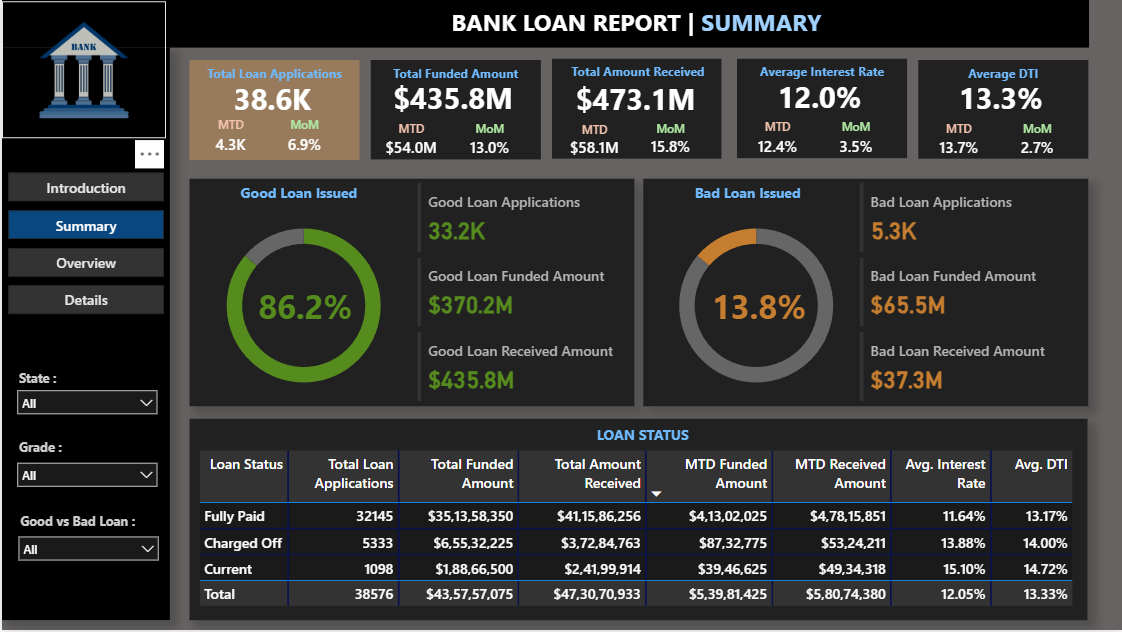

The dashboard page shown, as its layout file describes it:
{"tool":"powerbi","page":{"name":"Summary","canvas":[1280,720],"ordinal":1},"visuals":[{"type":"shape","box":[629.2,66.4,193.8,114.2],"z":0,"group":"g3"},{"type":"shape","box":[839.7,67.5,194.5,114],"z":0,"group":"g4"},{"type":"shape","box":[214.3,68.6,194.3,114.3],"z":0,"group":"g1"},{"type":"shape","box":[421.4,68.6,194.5,114],"z":0,"group":"g2"},{"type":"shape","box":[1047.1,68.6,194.5,113.1],"z":0,"group":"g5"},{"type":"shape","box":[214.3,204.3,508.6,260],"z":0},{"type":"card","fields":{"Values":["table_measures.avg_interest_rate"]},"box":[851.5,82.1,165.9,58.4],"z":1000,"group":"g4"},{"type":"card","fields":{"Values":["table_measures.avg_DTI"]},"box":[1058.9,83.1,165.9,57.9],"z":1000,"group":"g5"},{"type":"card","fields":{"Values":["table_measures.total_loan_appl"]},"box":[247.2,83.2,124.3,61.3],"z":1000,"group":"g1"},{"type":"card","fields":{"Values":["table_measures.total_funded_amt"]},"box":[433.2,83.2,165.9,58.4],"z":1000,"group":"g2"},{"type":"card","fields":{"Values":["table_measures.total_received_amt"]},"box":[643.2,85.3,163.1,55.8],"z":1000,"group":"g3"},{"type":"donutChart","fields":{"Category":["financial_loan.Good vs Band Loan"],"Y":["table_measures.total_loan_appl"]},"box":[220,234.3,250,230],"z":1000},{"type":"shape","box":[0,0,1242.3,54.5],"z":2000},{"type":"textbox","box":[632.2,67,191,41.6],"z":2000,"group":"g3"},{"type":"textbox","box":[839.7,67.5,194.5,38.9],"z":2000,"group":"g4"},{"type":"textbox","box":[214.3,68.6,194.3,39],"z":2000,"group":"g1"},{"type":"textbox","box":[421.4,68.6,194.5,38.9],"z":2000,"group":"g2"},{"type":"textbox","box":[1047.1,68.6,194.5,38.6],"z":2000,"group":"g5"},{"type":"shape","box":[0,54.7,191.9,654.7],"z":3000},{"type":"card","title":"MTD","fields":{"Values":["table_measures.MTD_loan_appl"]},"box":[235.7,132.7,51.4,50.2],"z":3000,"group":"g1"},{"type":"card","title":"MTD","fields":{"Values":["table_measures.MTD_interest_rate"]},"box":[851.5,136.3,70.1,48.6],"z":3000,"group":"g4"},{"type":"card","title":"MTD","fields":{"Values":["table_measures.MTD_avg_DTI"]},"box":[1058.9,136.9,70.1,48.3],"z":3000,"group":"g5"},{"type":"card","title":"MTD","fields":{"Values":["table_measures.MTD_received_amt"]},"box":[643.2,137.1,68.9,46.5],"z":3000,"group":"g3"},{"type":"card","title":"MTD","fields":{"Values":["table_measures.MTD_funded_amt"]},"box":[433.2,137.4,70.1,48.6],"z":3000,"group":"g2"},{"type":"card","title":"MoM","fields":{"Values":["table_measures.MOM_loan_appl"]},"box":[320,132.7,51.4,50.2],"z":4000,"group":"g1"},{"type":"card","title":"MoM","fields":{"Values":["table_measures.MOM_interest_rate"]},"box":[946.6,136.1,57.8,49.7],"z":4000,"group":"g4"},{"type":"card","title":"MoM","fields":{"Values":["table_measures.MOM_avg_DTI"]},"box":[1154,136.7,57.8,49.3],"z":4000,"group":"g5"},{"type":"card","title":"MoM","fields":{"Values":["table_measures.MOM_received_amt"]},"box":[736.7,136.9,56.8,47.5],"z":4000,"group":"g3"},{"type":"card","title":"MoM","fields":{"Values":["table_measures.MOM_funded_amt"]},"box":[528.3,137.2,57.8,49.7],"z":4000,"group":"g2"},{"type":"textbox","box":[13.8,417,119.7,38.5],"z":4000},{"type":"textbox","box":[235.7,204.3,207.1,34.3],"z":5000},{"type":"card","fields":{"Values":["table_measures.good_loan_per"]},"box":[287.1,321.4,118.6,57.1],"z":6000},{"type":"textbox","box":[509.2,1.4,447.3,49.5],"z":7000},{"type":"group","id":"g1","title":"Group 1","box":[214.3,68.6,194.3,114.3],"z":8000},{"type":"group","id":"g2","title":"Group 1","box":[421.4,68.6,194.3,118],"z":9000},{"type":"group","id":"g3","title":"Group 1","box":[629.2,66.4,194,118],"z":10000},{"type":"group","id":"g4","title":"Group 1","box":[839.7,67.5,194.5,118.2],"z":11000},{"type":"group","id":"g5","title":"Group 1","box":[1047.1,68.6,194.3,117.1],"z":12000},{"type":"shape","box":[732.9,204.3,508.6,260],"z":13000},{"type":"cardVisual","fields":{"Data":["table_measures.good_loan_appl","table_measures.good_loan_funded_amt","table_measures.good_loan_received_amt"]},"box":[470,204.3,252.9,260],"z":14000},{"type":"donutChart","fields":{"Category":["financial_loan.Good vs Band Loan"],"Y":["table_measures.total_loan_appl"]},"box":[737.1,234.3,250,230],"z":15000},{"type":"card","fields":{"Values":["table_measures.bad_loan_per"]},"box":[805.7,321.4,118.6,57.1],"z":16000},{"type":"textbox","box":[748.6,204.3,207.1,34.3],"z":17000},{"type":"cardVisual","fields":{"Data":["table_measures.bad_loan_appl","table_measures.bad_loan_funded_amt","table_measures.bad_loan_received_amt"]},"box":[975.7,204.3,252.9,260],"z":18000},{"type":"shape","box":[214,479.1,1026.7,230.2],"z":19000},{"type":"tableEx","fields":{"Values":["financial_loan.loan_status","table_measures.total_loan_appl","table_measures.total_funded_amt","table_measures.total_received_amt","table_measures.MTD_funded_amt","table_measures.MTD_received_amt","table_measures.avg_interest_rate","table_measures.avg_DTI"]},"box":[220.4,509.8,1008.5,200.4],"z":20000},{"type":"textbox","box":[646.8,479.8,170.3,34.5],"z":21000},{"type":"slicer","fields":{"Values":["financial_loan.address_state"]},"box":[6.9,436.3,180.3,50.9],"z":22000},{"type":"slicer","fields":{"Values":["financial_loan.grade"]},"box":[6.9,518.9,180.3,50.9],"z":23000},{"type":"textbox","box":[13.8,495.5,119.7,38.5],"z":24000},{"type":"pageNavigator","box":[6.9,196.8,178.9,163.8],"z":25000},{"type":"image","box":[0,1.4,187.2,156.9],"z":26000},{"type":"slicer","fields":{"Values":["financial_loan.Good vs Band Loan"]},"box":[8.3,602.8,180.3,50.9],"z":27000},{"type":"textbox","box":[15.1,579.4,163.8,38.5],"z":28000}]}

Visuals, with their boxes on the page's 1280x720 design canvas (x1, y1, x2, y2). These are canvas units, not pixel positions in the 1122x632 screenshot, which may show the page scaled, cropped or inside an application window:
shape: <bbox>629, 66, 823, 181</bbox>
shape: <bbox>840, 68, 1034, 182</bbox>
shape: <bbox>214, 69, 409, 183</bbox>
shape: <bbox>421, 69, 616, 183</bbox>
shape: <bbox>1047, 69, 1242, 182</bbox>
shape: <bbox>214, 204, 723, 464</bbox>
card - table_measures.avg_interest_rate: <bbox>852, 82, 1017, 140</bbox>
card - table_measures.avg_DTI: <bbox>1059, 83, 1225, 141</bbox>
card - table_measures.total_loan_appl: <bbox>247, 83, 372, 144</bbox>
card - table_measures.total_funded_amt: <bbox>433, 83, 599, 142</bbox>
card - table_measures.total_received_amt: <bbox>643, 85, 806, 141</bbox>
donutChart - financial_loan.Good vs Band Loan x table_measures.total_loan_appl: <bbox>220, 234, 470, 464</bbox>
shape: <bbox>0, 0, 1242, 54</bbox>
textbox: <bbox>632, 67, 823, 109</bbox>
textbox: <bbox>840, 68, 1034, 106</bbox>
textbox: <bbox>214, 69, 409, 108</bbox>
textbox: <bbox>421, 69, 616, 108</bbox>
textbox: <bbox>1047, 69, 1242, 107</bbox>
shape: <bbox>0, 55, 192, 709</bbox>
"MTD" card: <bbox>236, 133, 287, 183</bbox>
"MTD" card: <bbox>852, 136, 922, 185</bbox>
"MTD" card: <bbox>1059, 137, 1129, 185</bbox>
"MTD" card: <bbox>643, 137, 712, 184</bbox>
"MTD" card: <bbox>433, 137, 503, 186</bbox>
"MoM" card: <bbox>320, 133, 371, 183</bbox>
"MoM" card: <bbox>947, 136, 1004, 186</bbox>
"MoM" card: <bbox>1154, 137, 1212, 186</bbox>
"MoM" card: <bbox>737, 137, 794, 184</bbox>
"MoM" card: <bbox>528, 137, 586, 187</bbox>
textbox: <bbox>14, 417, 134, 456</bbox>
textbox: <bbox>236, 204, 443, 239</bbox>
card - table_measures.good_loan_per: <bbox>287, 321, 406, 378</bbox>
textbox: <bbox>509, 1, 956, 51</bbox>
"Group 1" group: <bbox>214, 69, 409, 183</bbox>
"Group 1" group: <bbox>421, 69, 616, 187</bbox>
"Group 1" group: <bbox>629, 66, 823, 184</bbox>
"Group 1" group: <bbox>840, 68, 1034, 186</bbox>
"Group 1" group: <bbox>1047, 69, 1241, 186</bbox>
shape: <bbox>733, 204, 1242, 464</bbox>
cardVisual - table_measures.good_loan_appl x table_measures.good_loan_funded_amt: <bbox>470, 204, 723, 464</bbox>
donutChart - financial_loan.Good vs Band Loan x table_measures.total_loan_appl: <bbox>737, 234, 987, 464</bbox>
card - table_measures.bad_loan_per: <bbox>806, 321, 924, 378</bbox>
textbox: <bbox>749, 204, 956, 239</bbox>
cardVisual - table_measures.bad_loan_appl x table_measures.bad_loan_funded_amt: <bbox>976, 204, 1229, 464</bbox>
shape: <bbox>214, 479, 1241, 709</bbox>
tableEx - financial_loan.loan_status x table_measures.total_loan_appl: <bbox>220, 510, 1229, 710</bbox>
textbox: <bbox>647, 480, 817, 514</bbox>
slicer - financial_loan.address_state: <bbox>7, 436, 187, 487</bbox>
slicer - financial_loan.grade: <bbox>7, 519, 187, 570</bbox>
textbox: <bbox>14, 496, 134, 534</bbox>
pageNavigator: <bbox>7, 197, 186, 361</bbox>
image: <bbox>0, 1, 187, 158</bbox>
slicer - financial_loan.Good vs Band Loan: <bbox>8, 603, 189, 654</bbox>
textbox: <bbox>15, 579, 179, 618</bbox>
